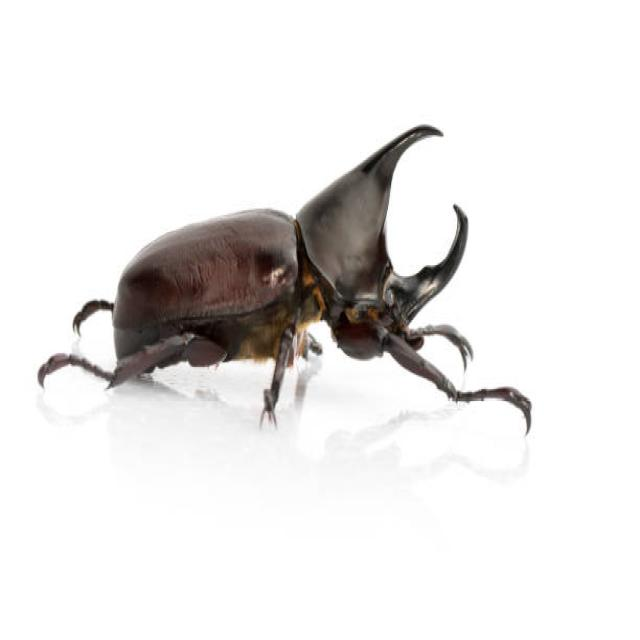Rhino-beetle: (39, 119, 552, 442)
